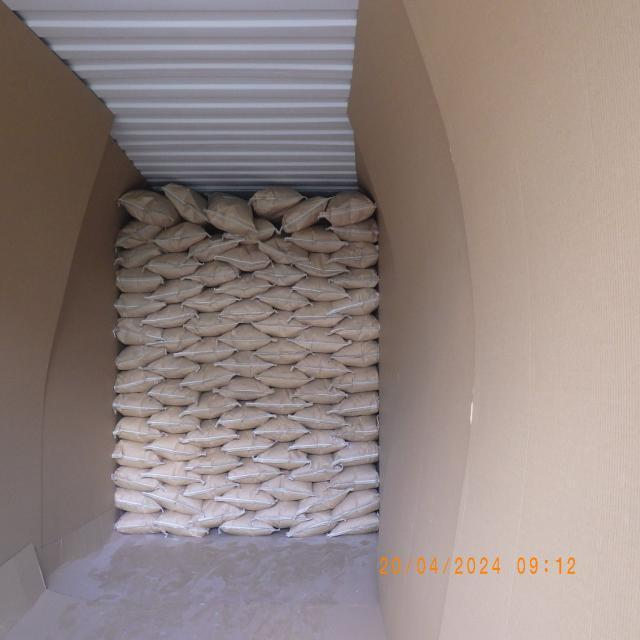gunny_bag: (118, 188, 178, 228), (294, 482, 354, 520), (318, 190, 378, 228), (208, 192, 256, 234), (280, 196, 332, 234), (163, 182, 208, 224), (255, 470, 315, 501), (250, 186, 304, 220), (216, 401, 276, 431), (251, 441, 311, 471), (214, 483, 278, 511), (146, 432, 204, 462), (286, 508, 344, 538), (252, 338, 314, 366), (155, 222, 208, 254), (326, 286, 379, 318), (148, 485, 204, 515), (286, 225, 346, 253), (289, 326, 349, 354), (182, 418, 236, 449), (330, 488, 378, 522), (146, 251, 202, 280), (180, 363, 234, 393), (180, 392, 240, 419), (190, 499, 244, 529), (218, 510, 278, 537), (184, 447, 240, 475), (218, 350, 274, 378), (290, 301, 346, 329), (288, 454, 344, 482), (218, 243, 272, 272), (188, 234, 240, 264), (247, 390, 312, 414), (288, 430, 348, 456), (222, 428, 272, 459), (252, 286, 314, 311), (215, 273, 272, 300), (146, 460, 202, 487), (182, 474, 238, 501), (256, 238, 310, 266), (254, 415, 308, 443), (188, 260, 240, 289), (288, 404, 348, 429), (115, 219, 163, 250), (254, 500, 307, 528), (327, 340, 380, 368), (217, 324, 271, 351), (326, 315, 380, 342), (324, 464, 378, 491), (148, 378, 200, 406), (224, 458, 280, 484), (328, 366, 380, 394), (250, 312, 308, 337), (254, 364, 312, 389), (150, 278, 203, 305), (326, 390, 379, 417), (326, 511, 379, 538), (146, 302, 198, 329), (185, 311, 237, 338), (326, 216, 380, 242), (150, 326, 200, 354), (148, 406, 198, 434), (176, 338, 234, 362), (290, 253, 348, 277), (183, 286, 236, 312), (326, 242, 379, 268), (115, 344, 165, 371), (220, 299, 274, 324), (115, 318, 163, 346), (112, 440, 160, 468), (250, 263, 308, 286), (146, 354, 198, 379), (294, 378, 346, 403), (218, 376, 272, 400), (292, 278, 346, 302), (294, 354, 348, 378), (116, 242, 163, 269), (114, 392, 164, 417), (112, 466, 160, 492), (116, 510, 164, 536), (224, 218, 276, 242), (116, 292, 162, 319), (114, 487, 160, 514), (332, 441, 378, 468), (115, 268, 164, 293), (156, 513, 207, 537), (331, 416, 378, 442), (115, 369, 163, 394), (328, 268, 381, 290), (115, 417, 162, 441)
